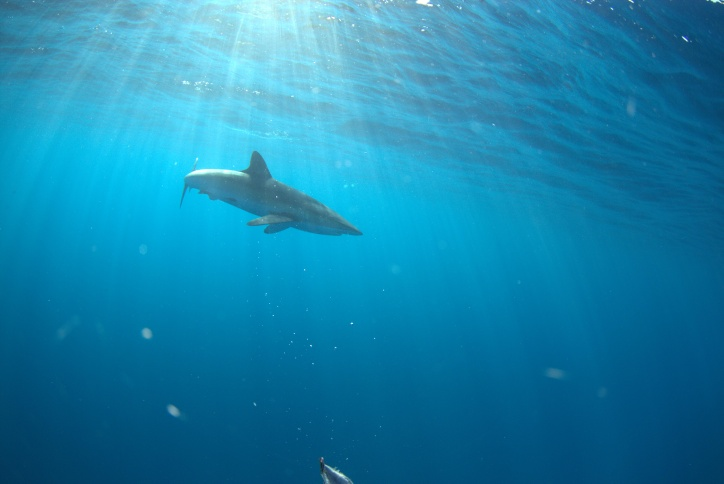Sedoso: (143, 136, 383, 266)
